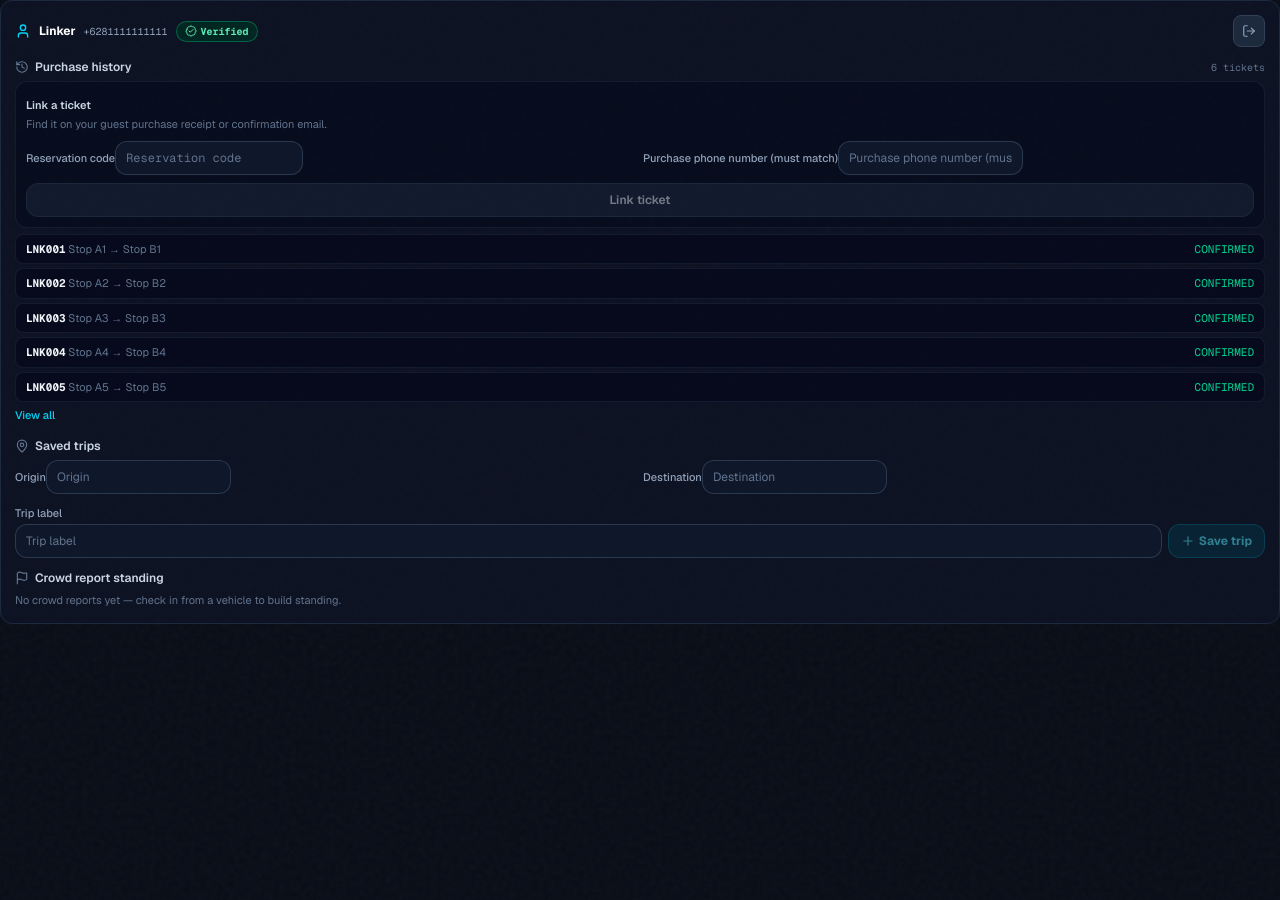
link a ticket › explains an already-claimed ticket
In the field labelled "Reservation code": point(209, 158) [115, 140, 303, 174], type "LNK001"
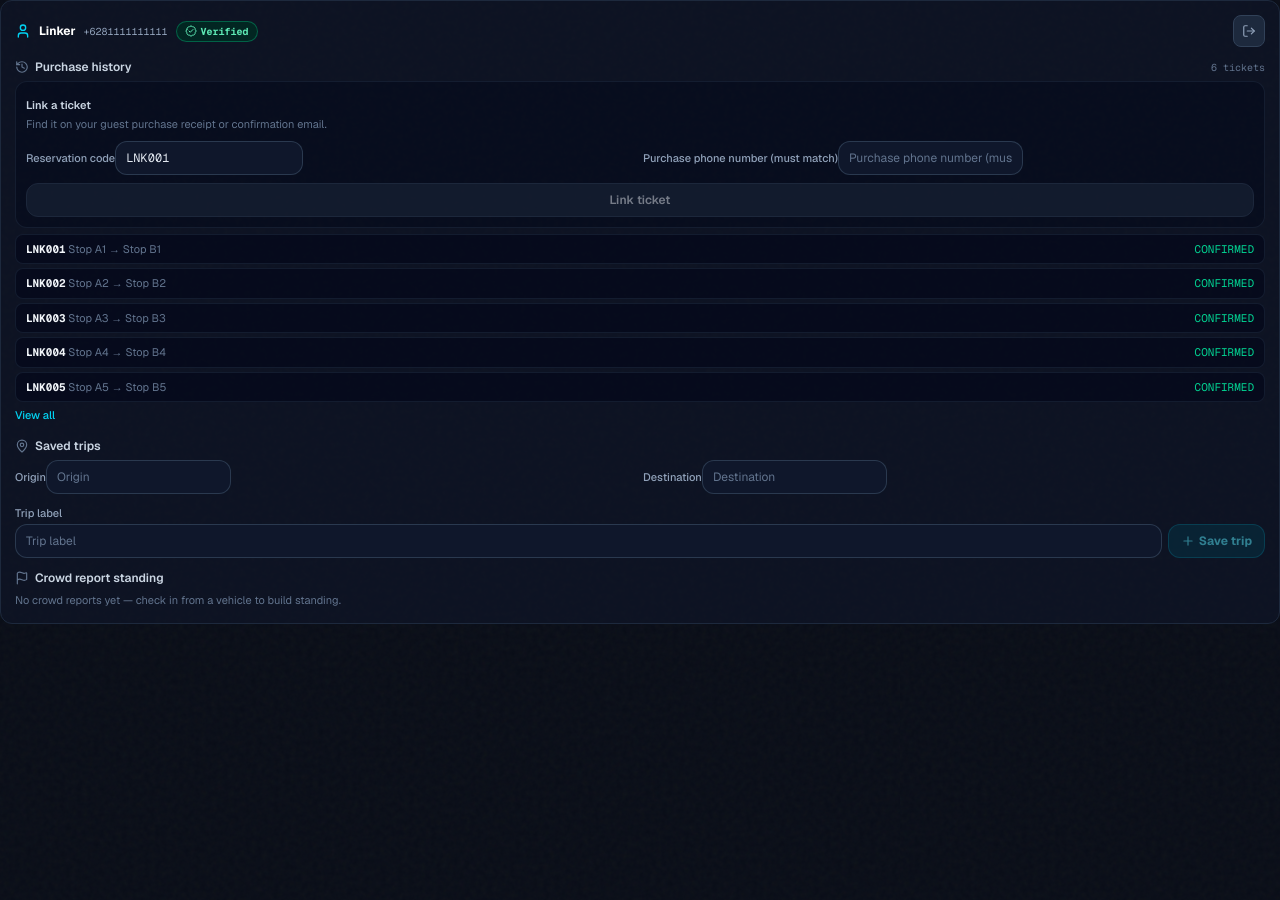
In the field labelled "Purchase phone number (must match)": point(930, 158) [838, 140, 1023, 174], type "+628100000001"
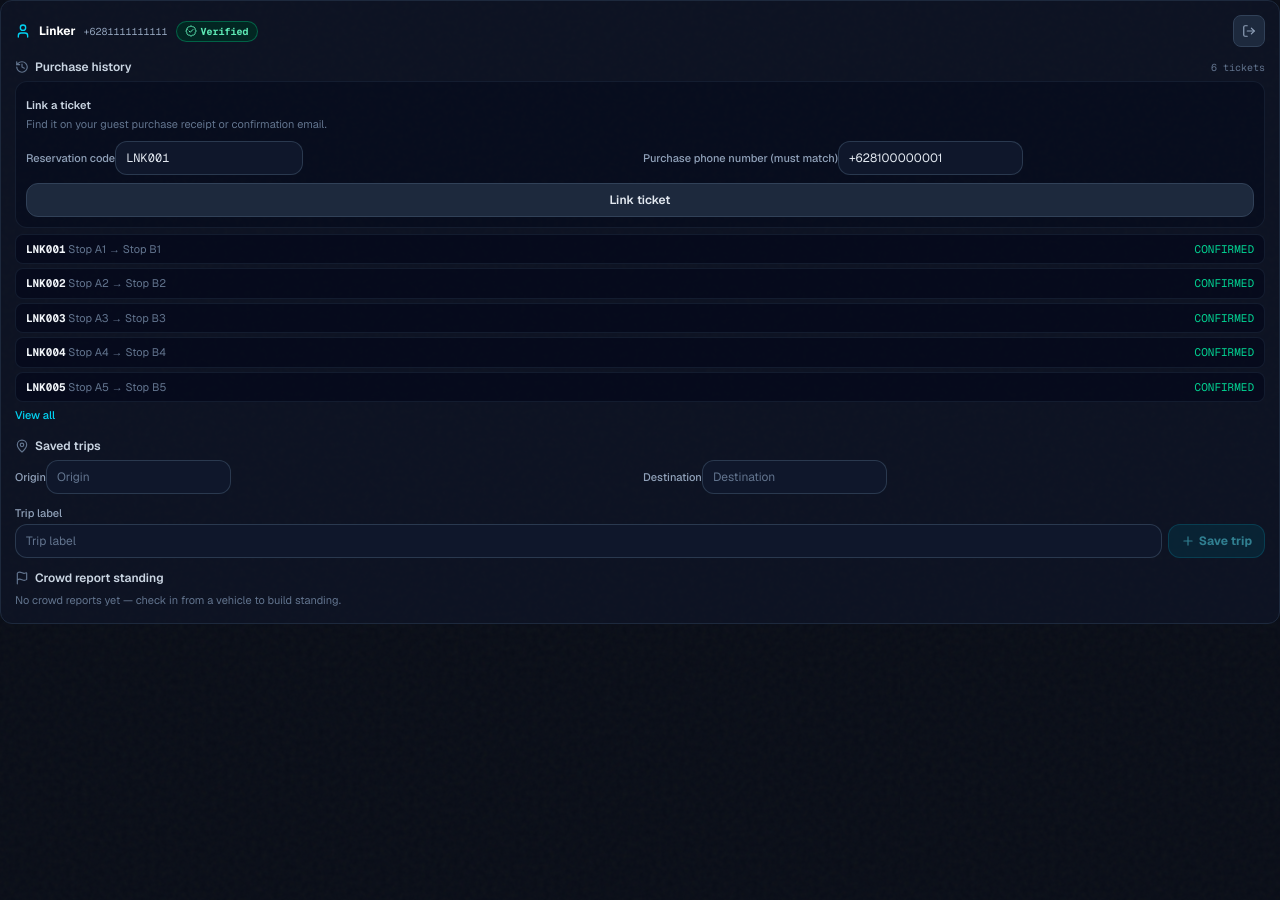
Click the button "Link ticket": point(640, 200) [26, 182, 1254, 216]
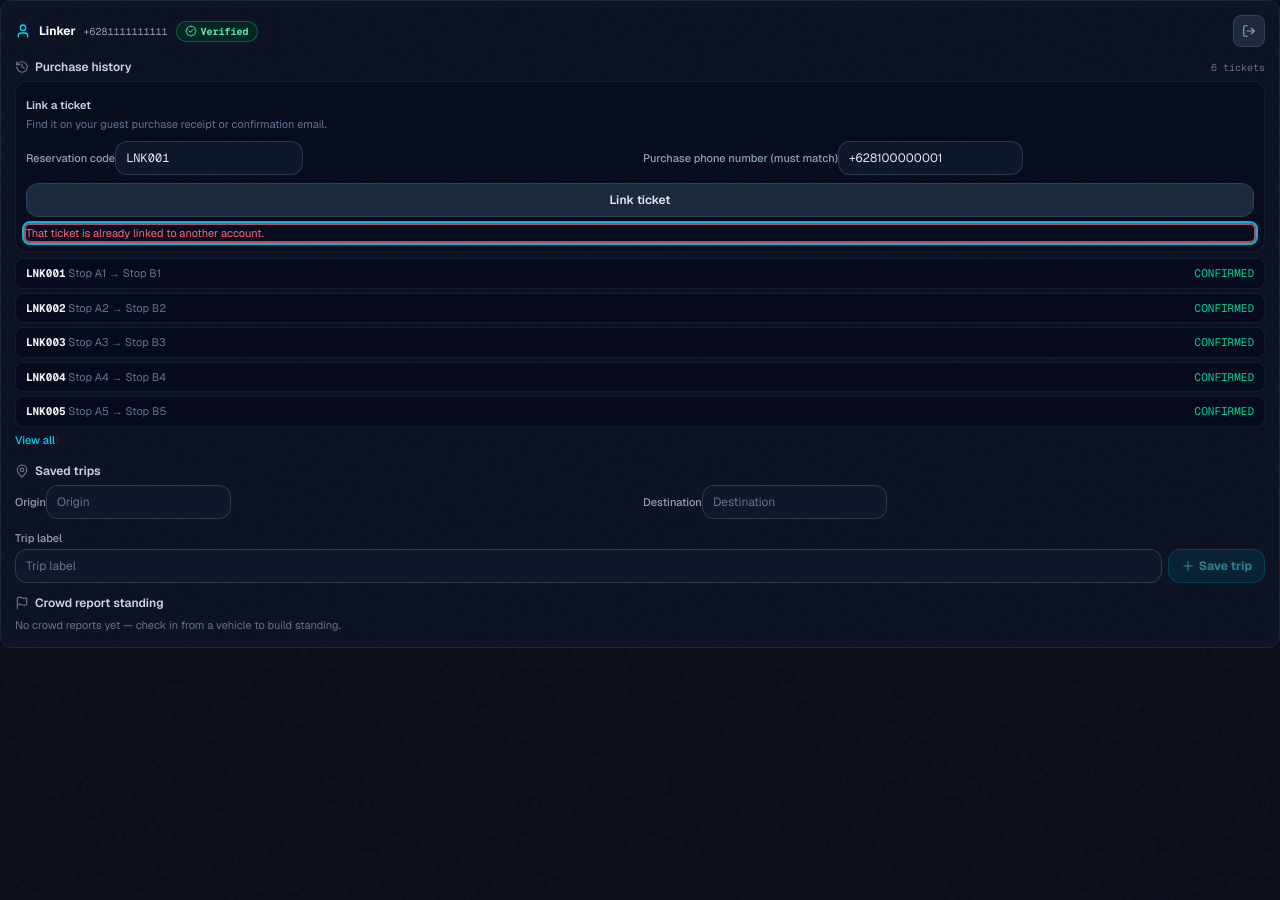
expect the text "That ticket is already linked to another account." is shown: met, box [26, 224, 1254, 241]
